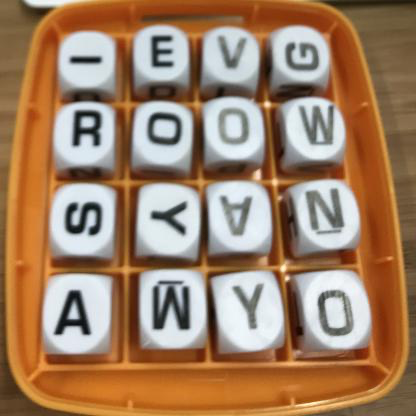a: (49, 278, 102, 348), (214, 189, 265, 242)
e: (144, 27, 186, 76)
g: (280, 36, 327, 82)
i: (63, 34, 114, 90)
m: (148, 269, 200, 341)
n: (300, 184, 355, 241)
o: (307, 279, 363, 345), (143, 106, 191, 159), (212, 100, 256, 154)
r: (65, 104, 111, 155)
s: (60, 189, 112, 245)
v: (212, 23, 254, 77)
w: (291, 94, 343, 154)
y: (225, 273, 276, 343), (143, 193, 197, 243)
